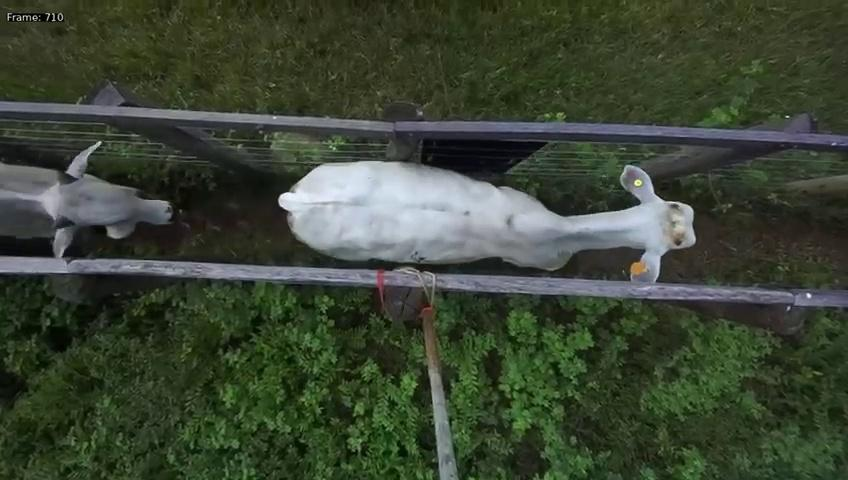cattle: (272, 162, 696, 281), (0, 140, 173, 259)
